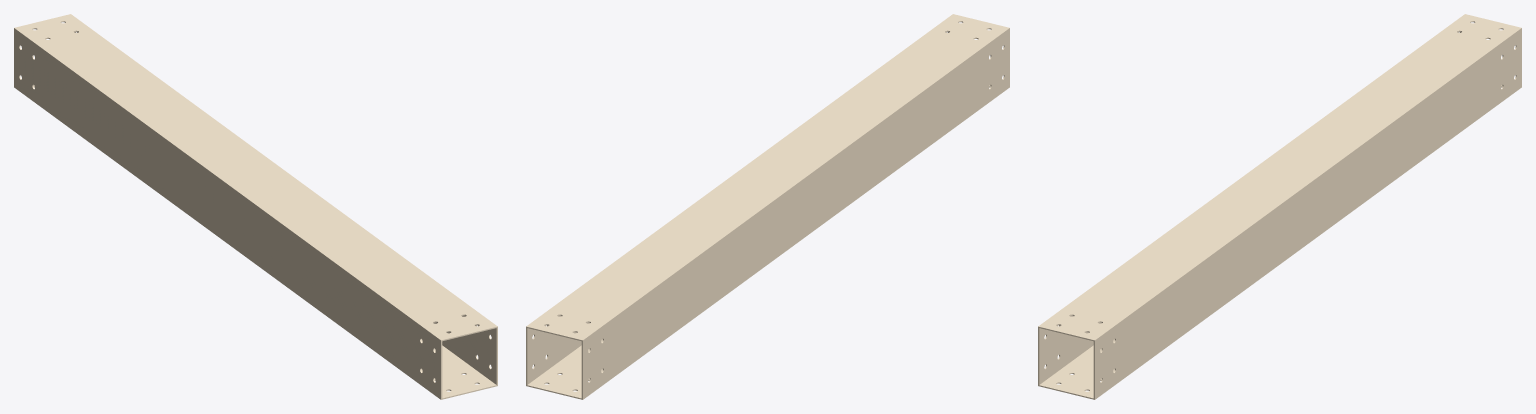
3 renders of one model, left to right at view 1: azimuth 30°, elevation 25°; view 2: azimuth 150°, elevation 25°; view 3: azimuth 330°, elevation 25°, orthographic.
Parts seen in each view (by area): view 1: <组件#26>_1; view 2: <组件#26>_1; view 3: <组件#26>_1.
Boxes of the visible parts, x1=… form: <组件#26>_1: x1=14, y1=14, x2=497, y2=399; <组件#26>_1: x1=526, y1=14, x2=1009, y2=399; <组件#26>_1: x1=1038, y1=14, x2=1521, y2=399.
Size of the model in its own units: 7.87 by 7.87 by 102.
